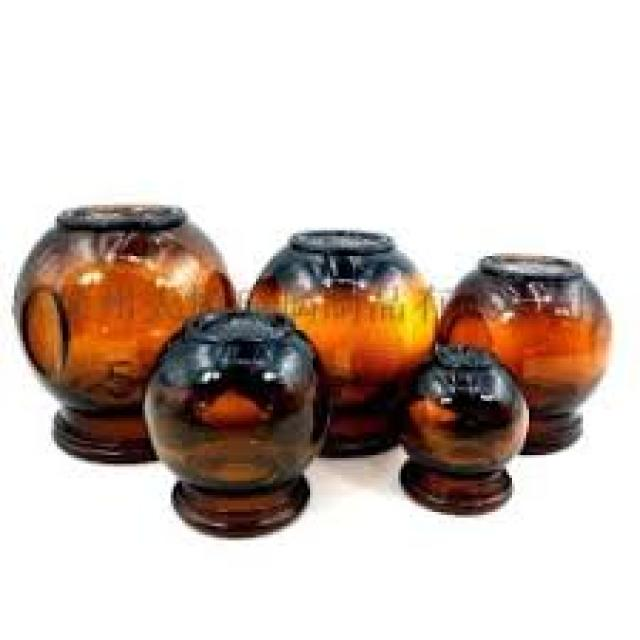glass: (17, 205, 609, 532)
